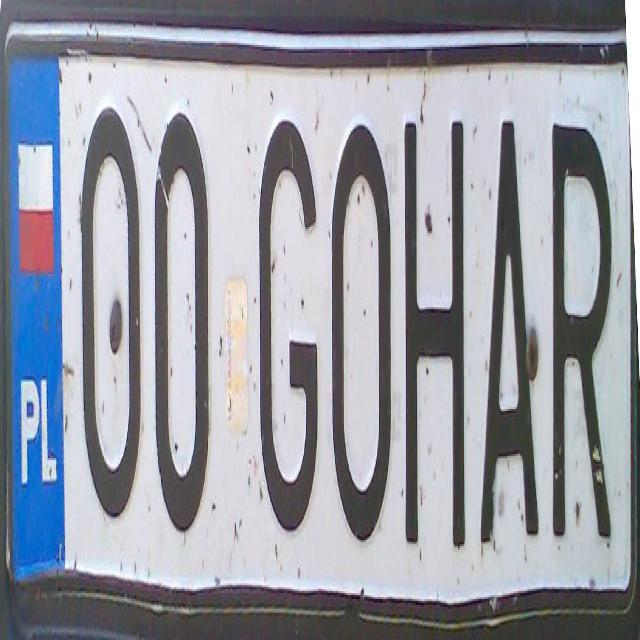pl_license_plate: (7, 63, 626, 597)
